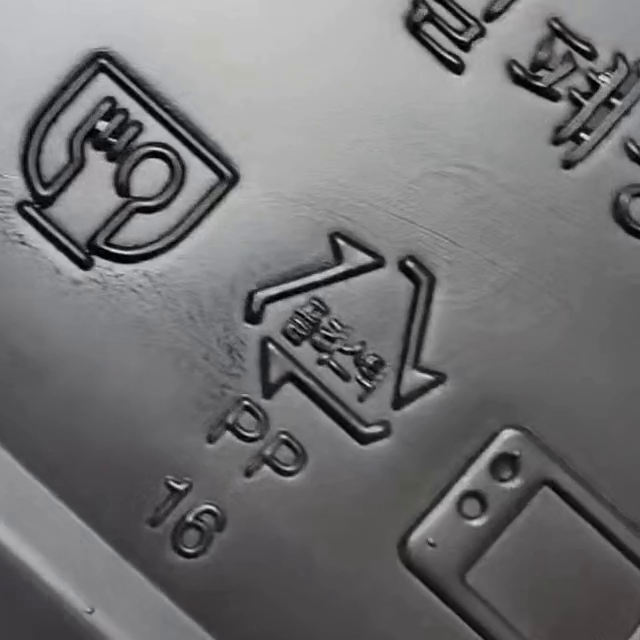Plastic: (243, 223, 443, 449)
